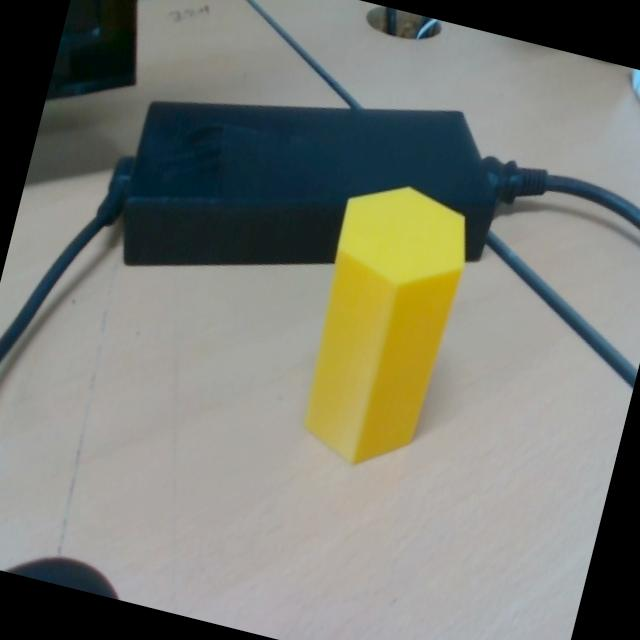hexagon: (304, 187, 464, 463)
